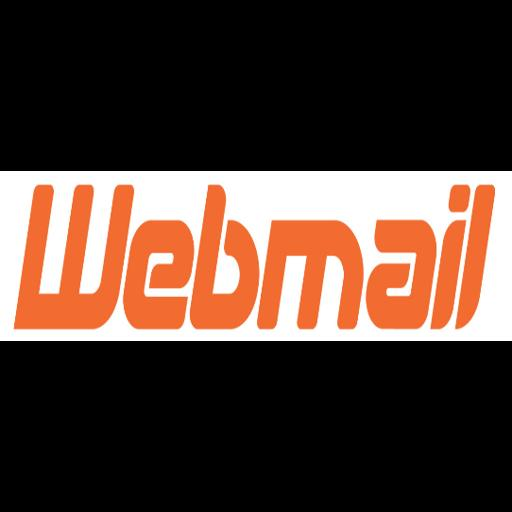Webmail Provider: (0, 171, 512, 341)
